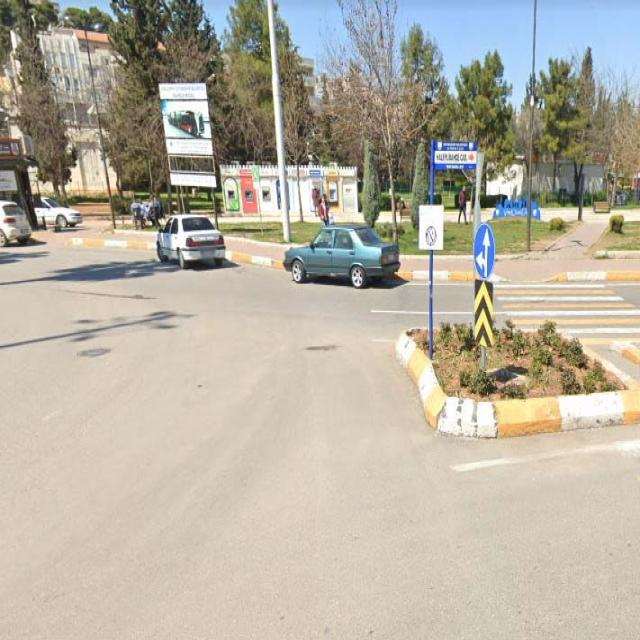ilerisol: (471, 224, 496, 277)
